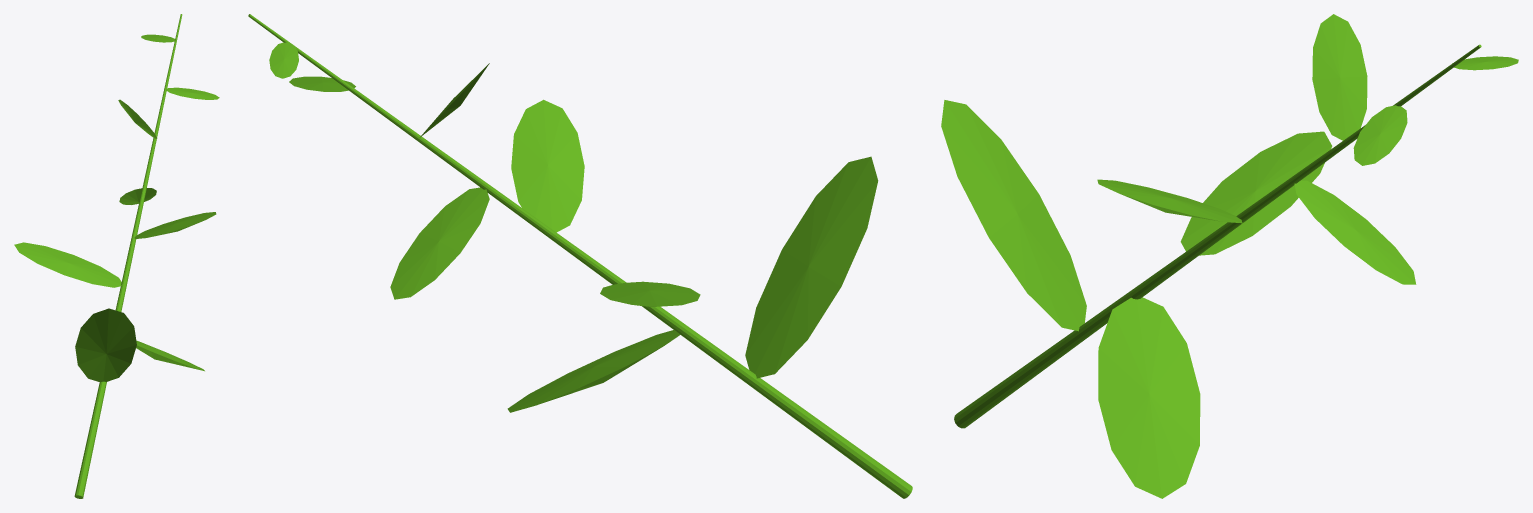
3 views of the same model, side by side, from view 1: azimuth 30°, elevation 25°; view 2: azimuth 150°, elevation 25°; view 3: azimuth 270°, elevation 25° (orthographic). The views are drawn at different scales.
Parts seen in each view (by area): view 1: tree; view 2: tree; view 3: tree.
Boxes of the visible parts, left/top/right/bottom form: tree: left=14, top=14, right=219, bottom=498; tree: left=248, top=14, right=912, bottom=498; tree: left=941, top=14, right=1518, bottom=498.
Bounding box in the file's own units: 0.1977 × 0.2115 × 0.2428.
